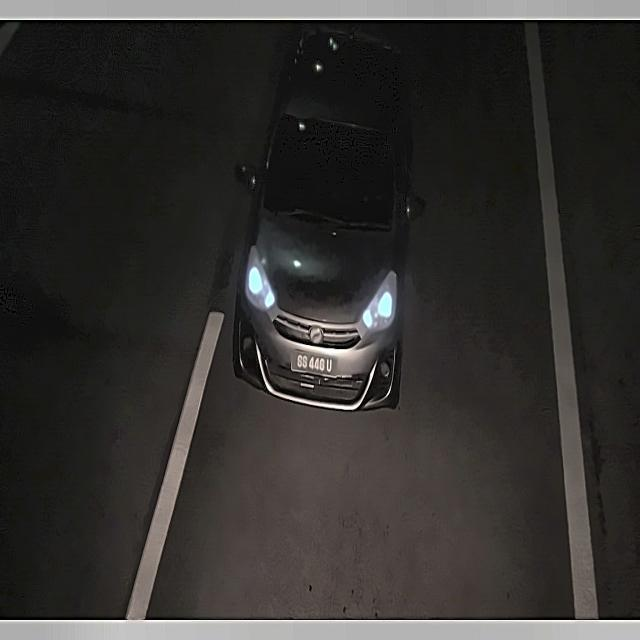car: (286, 346, 342, 382)
